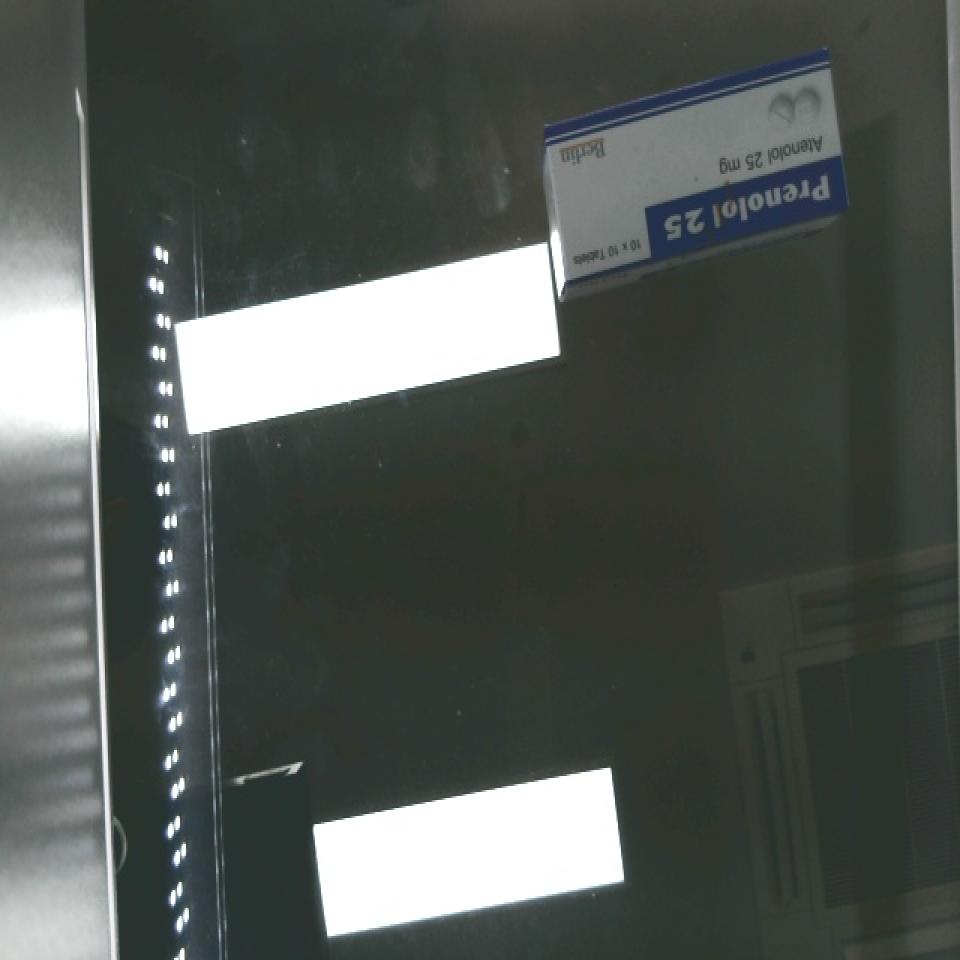medicine_box: (526, 47, 866, 282)
medicine_label_obb: (645, 156, 848, 256)
